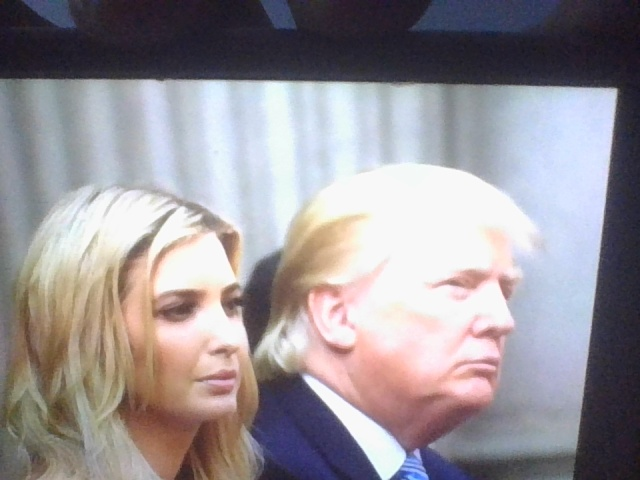fake: (90, 188, 267, 439)
